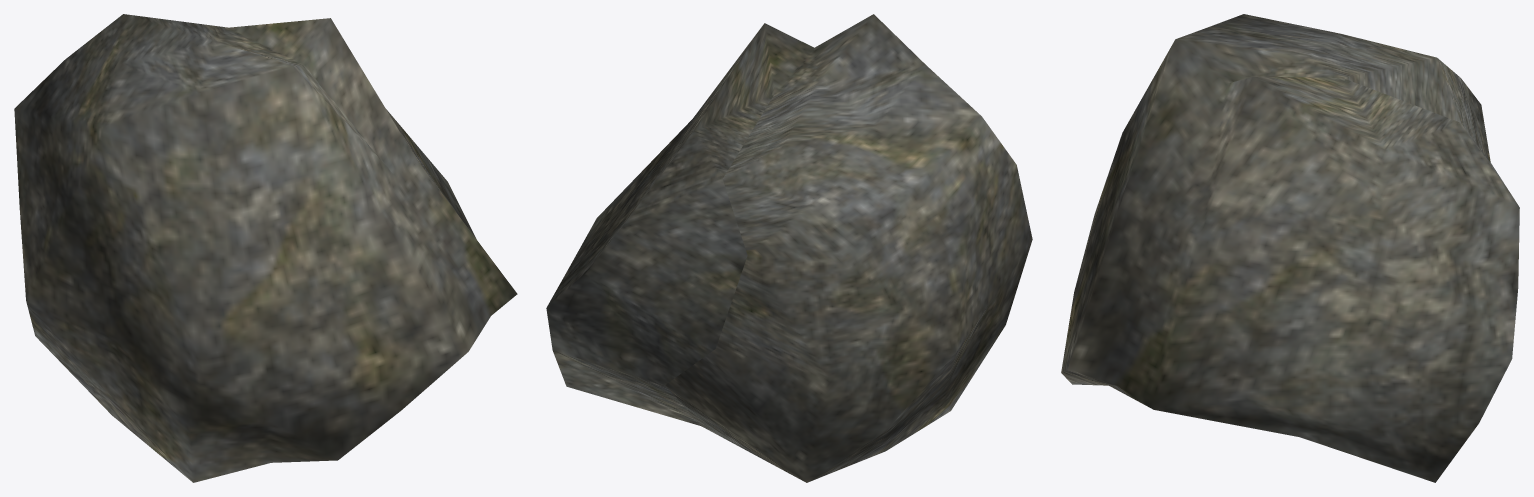
File: dark_rock_003.fbx
3 renders of one model, left to right at view 1: azimuth 30°, elevation 25°; view 2: azimuth 150°, elevation 25°; view 3: azimuth 270°, elevation 25°, orthographic. The views are drawn at different scales.
Visible parts, largest first — view 1: dark_rock.003; view 2: dark_rock.003; view 3: dark_rock.003.
Part boxes in pixels (box(x1,y1,x2,y2)): dark_rock.003: box(14, 14, 517, 482); dark_rock.003: box(546, 14, 1032, 482); dark_rock.003: box(1061, 14, 1519, 482).
Bounding box in the file's own units: 166 × 157 × 165.
